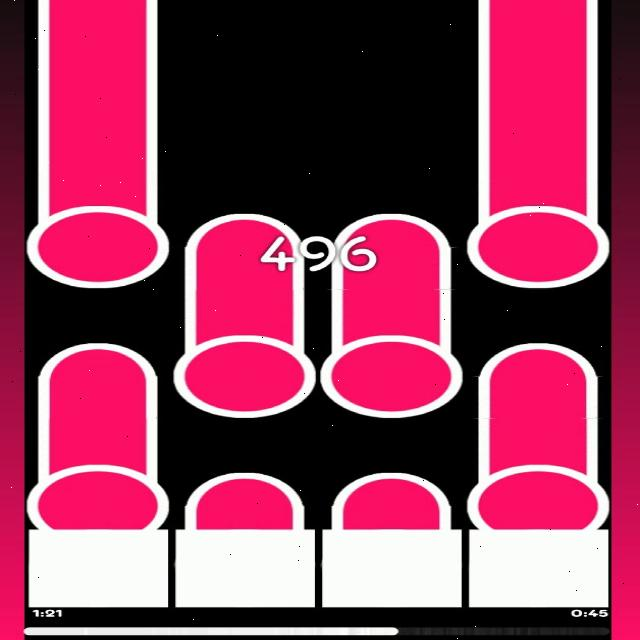end_hold: (470, 333, 606, 378), (181, 207, 307, 255), (35, 336, 159, 382), (330, 207, 456, 250), (328, 465, 448, 509), (185, 464, 304, 508)
start_hold: (25, 183, 167, 289), (320, 319, 464, 419), (467, 188, 607, 289), (173, 320, 316, 417), (26, 448, 172, 531), (467, 452, 610, 529)
